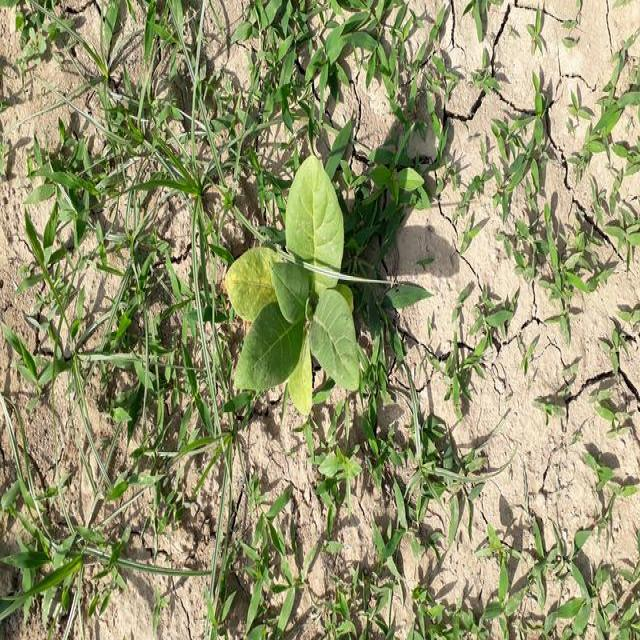crop: (222, 155, 362, 415)
